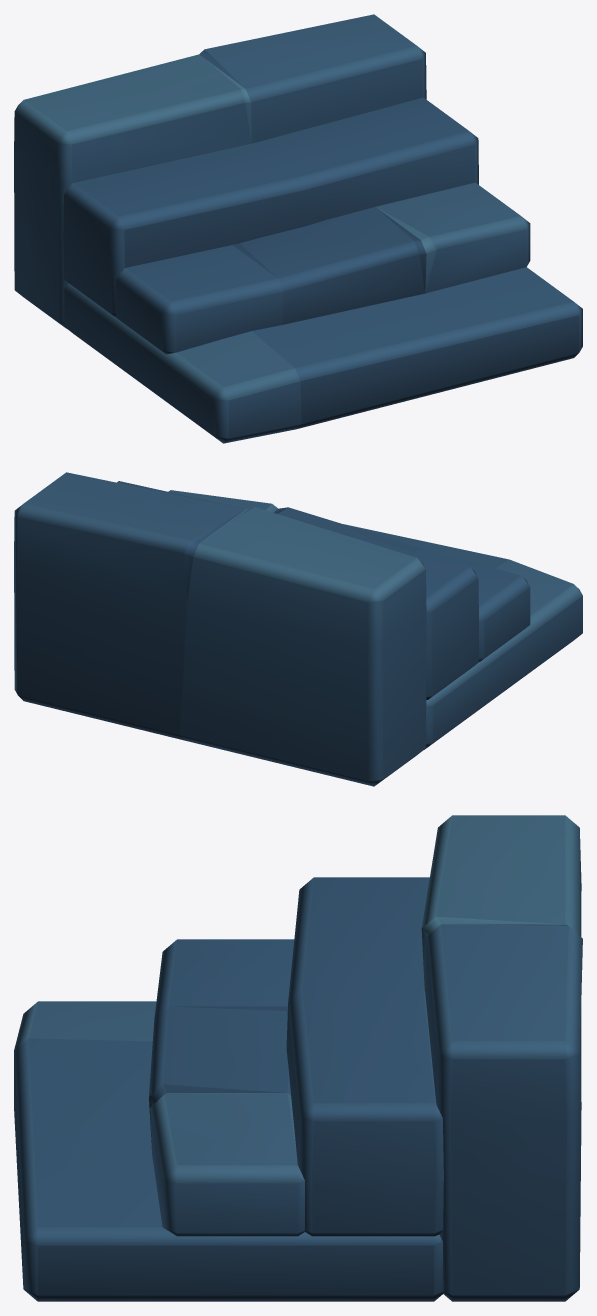
The model's file is stair_1.fbx.
3 renders of one model, top to bottom at view 1: azimuth 30°, elevation 25°; view 2: azimuth 150°, elevation 25°; view 3: azimuth 270°, elevation 25°, orthographic. The views are drawn at different scales.
Parts seen in each view (by area): view 1: stair_1; view 2: stair_1; view 3: stair_1.
Boxes of the visible parts, x1,y1,x2,y2 form: stair_1: (14,14,582,443); stair_1: (14,472,582,786); stair_1: (14,815,582,1301).
Bounding box in the file's own units: 205 × 108 × 208.
